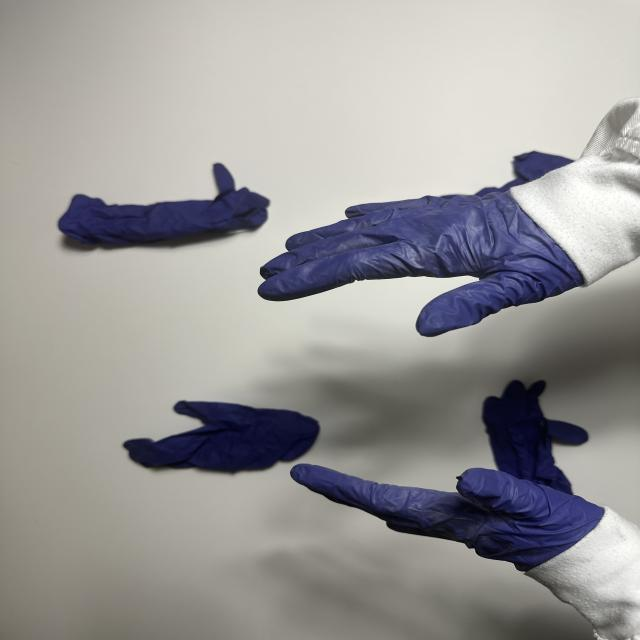gloves_contaminated: (258, 191, 582, 336), (291, 464, 604, 571)
